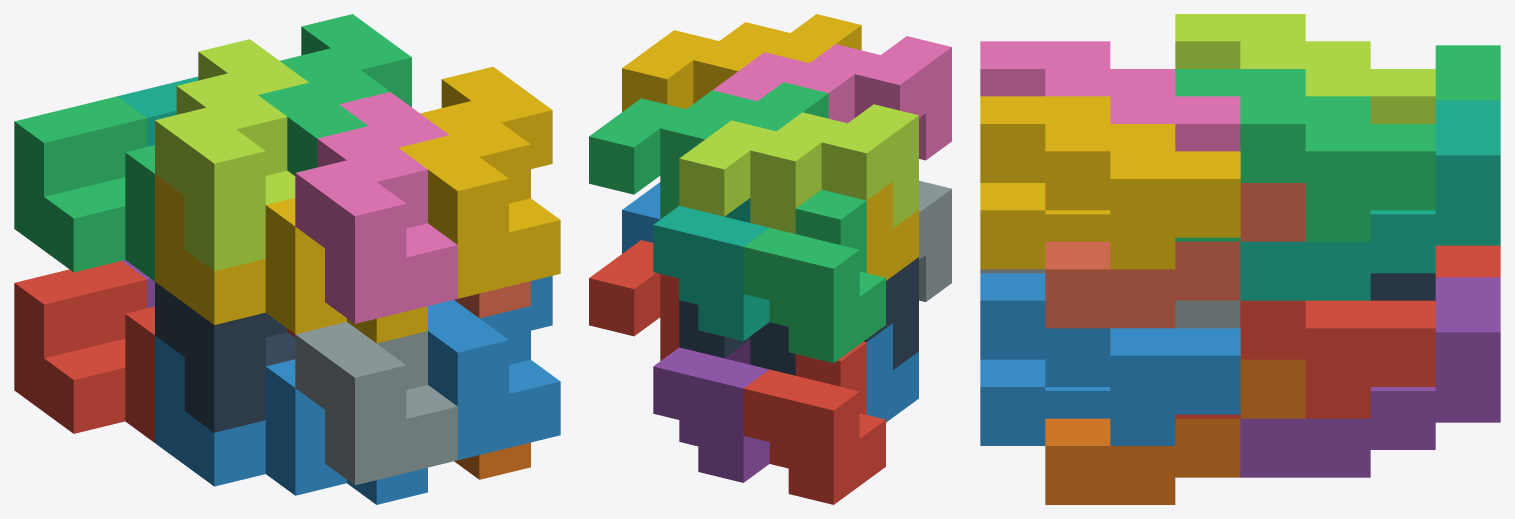
Rendered from tiling.obj.
3 renders of one model, left to right at view 1: azimuth 30°, elevation 25°; view 2: azimuth 150°, elevation 25°; view 3: azimuth 270°, elevation 25°, orthographic. The views are drawn at different scales.
Parts seen in each view (by area): view 1: copy_2_domain_4, copy_2_domain_8, copy_2_domain_3, copy_1_domain_3, copy_1_domain_1, copy_2_domain_2, copy_2_domain_6, copy_1_domain_2, copy_1_domain_4, copy_2_domain_7, copy_2_domain_1, copy_1_domain_7 (+2 smaller); view 2: copy_2_domain_3, copy_1_domain_3, copy_1_domain_1, copy_2_domain_4, copy_2_domain_7, copy_2_domain_8, copy_1_domain_7, copy_1_domain_5, copy_2_domain_5, copy_2_domain_1, copy_2_domain_2, copy_1_domain_2 (+2 smaller); view 3: copy_2_domain_8, copy_2_domain_6, copy_2_domain_7, copy_1_domain_7, copy_1_domain_5, copy_2_domain_5, copy_1_domain_8, copy_1_domain_6, copy_2_domain_4, copy_2_domain_3, copy_1_domain_3, copy_2_domain_2 (+4 smaller).
Part boxes in pixels (left/top/right/bottom): copy_2_domain_4: left=295, top=92, right=457, bottom=323; copy_2_domain_8: left=398, top=67, right=560, bottom=298; copy_2_domain_3: left=155, top=39, right=308, bottom=271; copy_1_domain_3: left=14, top=96, right=154, bottom=281; copy_1_domain_1: left=14, top=261, right=154, bottom=442; copy_2_domain_2: left=295, top=322, right=457, bottom=485; copy_2_domain_6: left=428, top=276, right=560, bottom=460; copy_1_domain_2: left=155, top=336, right=427, bottom=504; copy_1_domain_4: left=155, top=174, right=427, bottom=343; copy_2_domain_7: left=258, top=14, right=411, bottom=175; copy_2_domain_1: left=155, top=282, right=295, bottom=432; copy_1_domain_7: left=117, top=76, right=198, bottom=146; copy_2_domain_3: left=679, top=104, right=918, bottom=233; copy_1_domain_3: left=743, top=189, right=885, bottom=363; copy_1_domain_1: left=743, top=341, right=885, bottom=504; copy_2_domain_4: left=713, top=36, right=951, bottom=160; copy_2_domain_7: left=589, top=82, right=828, bottom=219; copy_2_domain_8: left=622, top=14, right=861, bottom=111; copy_1_domain_7: left=653, top=198, right=769, bottom=341; copy_1_domain_5: left=653, top=340, right=769, bottom=482; copy_2_domain_5: left=589, top=240, right=679, bottom=360; copy_2_domain_1: left=679, top=257, right=918, bottom=375; copy_2_domain_2: left=919, top=180, right=951, bottom=301; copy_1_domain_2: left=866, top=323, right=918, bottom=422; copy_2_domain_8: left=980, top=96, right=1240, bottom=269; copy_2_domain_6: left=980, top=273, right=1240, bottom=445; copy_2_domain_7: left=1175, top=69, right=1435, bottom=241; copy_1_domain_7: left=1240, top=100, right=1500, bottom=300; copy_1_domain_5: left=1240, top=277, right=1500, bottom=477; copy_2_domain_5: left=1175, top=300, right=1435, bottom=418; copy_1_domain_8: left=1045, top=183, right=1305, bottom=328; copy_1_domain_6: left=1045, top=359, right=1305, bottom=504; copy_2_domain_4: left=980, top=41, right=1240, bottom=151; copy_2_domain_3: left=1175, top=14, right=1435, bottom=123; copy_1_domain_3: left=1435, top=45, right=1500, bottom=100; copy_2_domain_2: left=980, top=269, right=1240, bottom=328.
Size of the model in its own units: 7 by 6 by 8.
